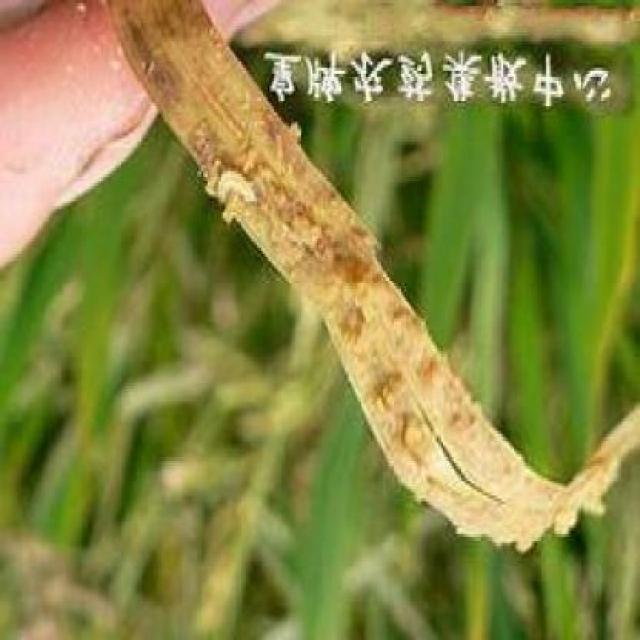whorl-maggot: (213, 158, 267, 217)
